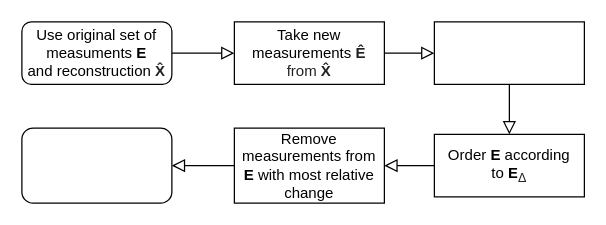
This 606x225 diagram has some shape labels left out. Each missing label, with the centre of its shape:
Calculate normalised relative change E Δ from X: point 508,52
Create new reconstruction w ith reduced measurement set E: point 96,165
